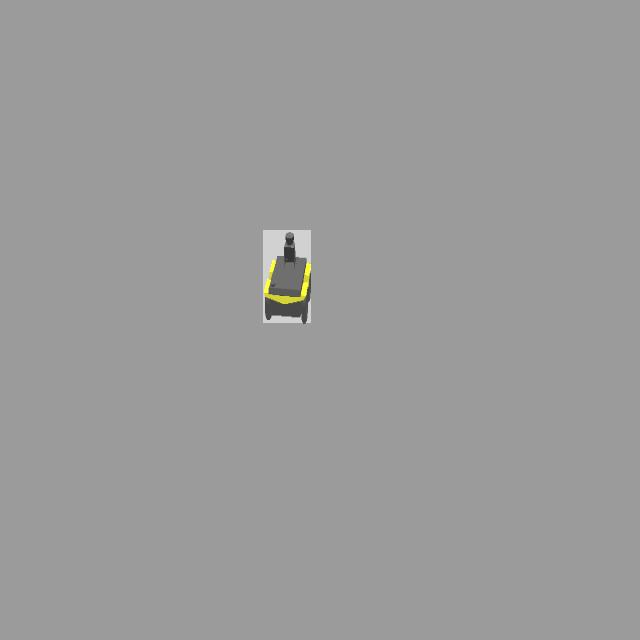jackal: (263, 230, 311, 323)
